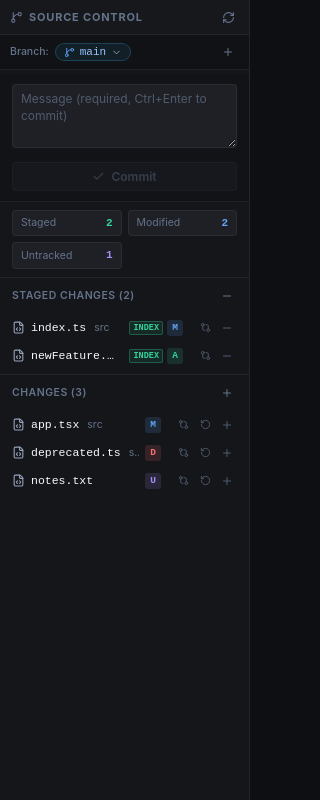
Test: SourceControl Component Tests › Group 3: Staging & Unstaging › dismisses action error banner when close button is clicked
This screenshot has width=320, height=800.
Click the button named "Stage src/app.tsx" at (227, 425), box [217,415,237,435]
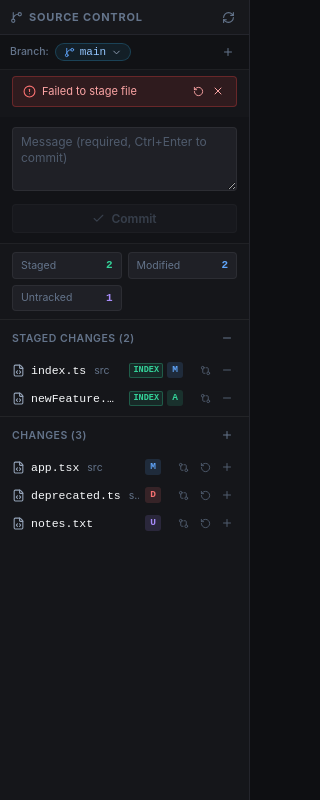
Now the message "Failed to stage file" is shown, box [12,76,237,106]
Click the button named "Dismiss error" at (218, 91), box [210,83,226,99]
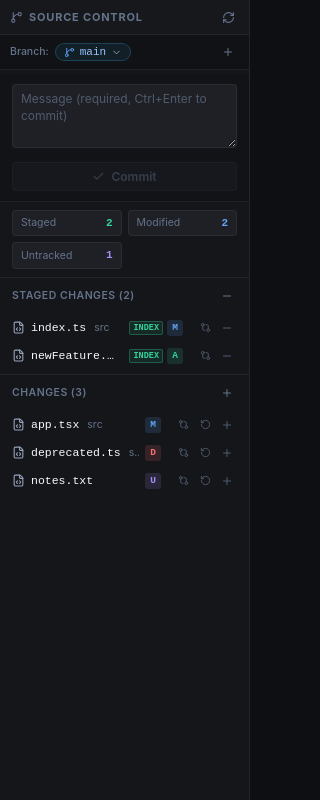
Now the message "Failed to stage file" is gone
